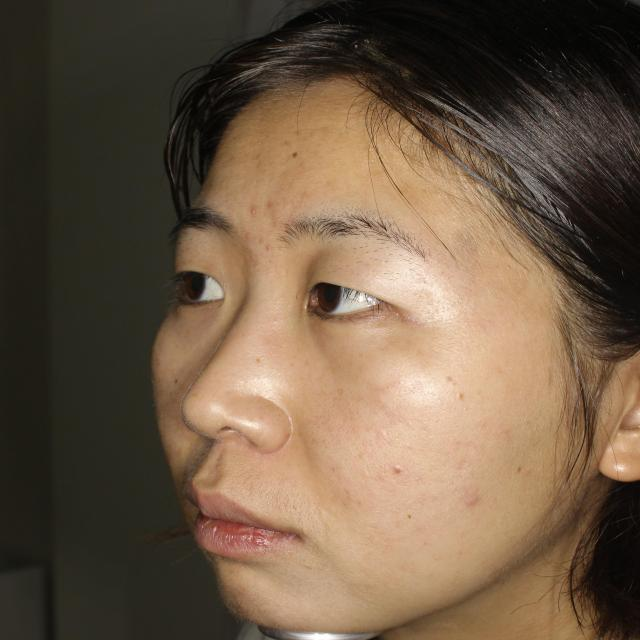comedone: (243, 192, 287, 216), (456, 490, 486, 510)
